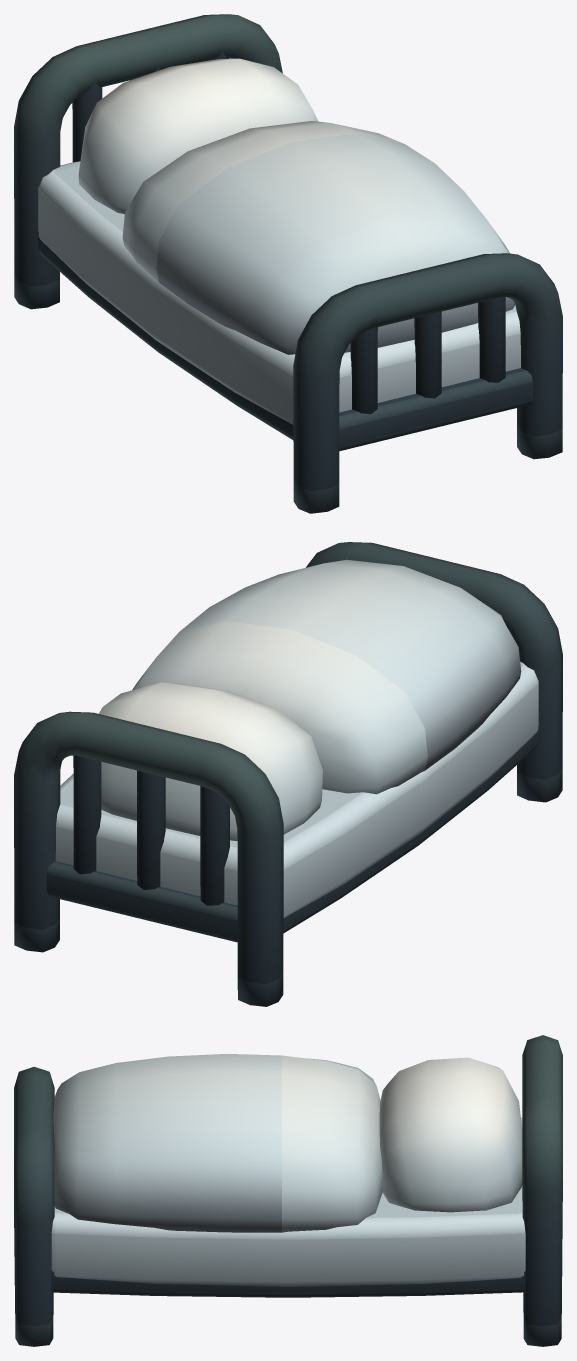
File: bed3_LOD_setup.fbx
3 views of the same model, one above another, from view 1: azimuth 30°, elevation 25°; view 2: azimuth 150°, elevation 25°; view 3: azimuth 270°, elevation 25° (orthographic). The views are drawn at different scales.
Parts seen in each view (by area): view 1: bed3_LOD0; view 2: bed3_LOD0; view 3: bed3_LOD0.
Part boxes in pixels (bbox=[...]): bed3_LOD0: bbox=[14, 14, 562, 513]; bed3_LOD0: bbox=[14, 542, 562, 1006]; bed3_LOD0: bbox=[14, 1035, 562, 1346].
Size of what is drawn, in the model's own units: 106 by 90.49 by 205.
